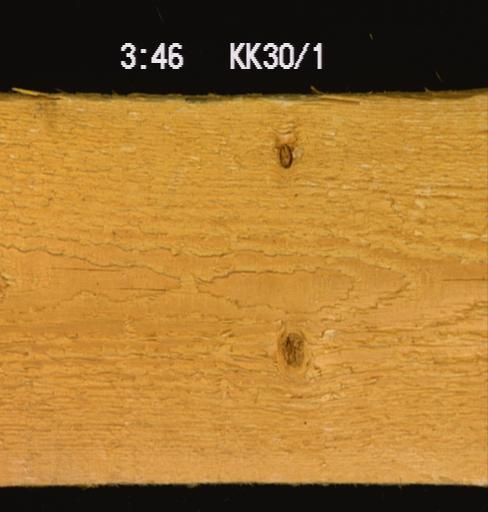dry_knot: (277, 139, 294, 168)
sound_knot: (278, 328, 307, 369)
